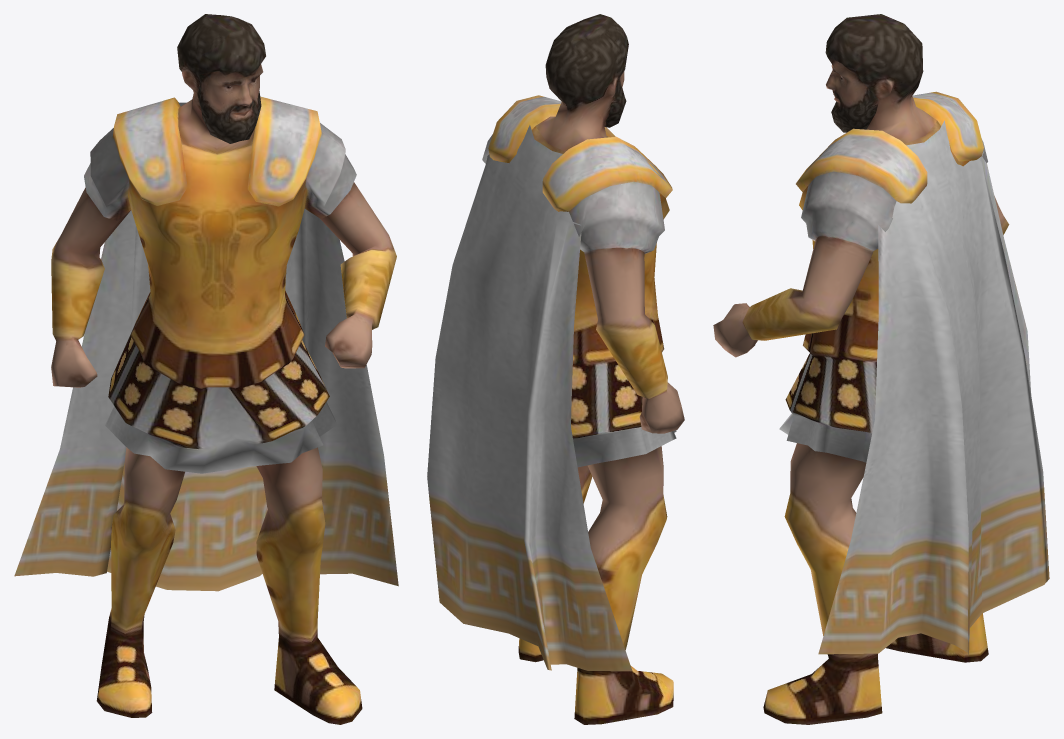
The model's file is body-championarchers.glb.
3 renders of one model, left to right at view 1: azimuth 30°, elevation 25°; view 2: azimuth 150°, elevation 25°; view 3: azimuth 270°, elevation 25°, orthographic. The views are drawn at different scales.
Bounding box in the file's own units: 0.8867 × 2.06 × 0.9497.
Materials: 1 (1 with a texture image).
